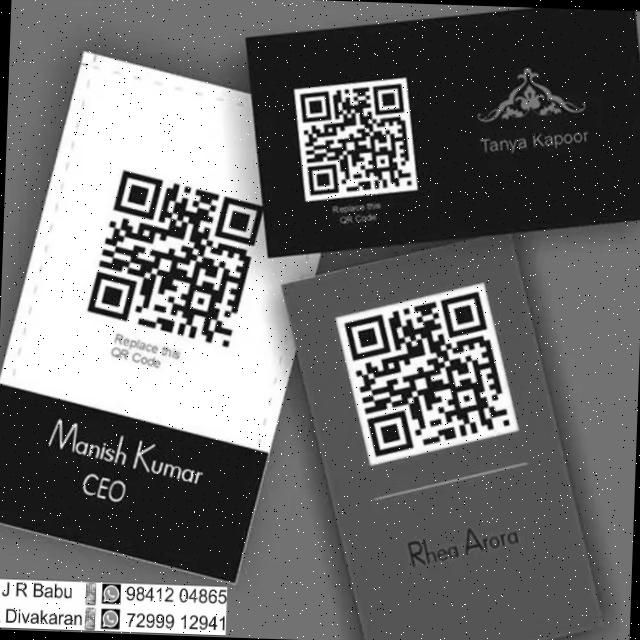QR-codes: (330, 278, 524, 468), (84, 166, 265, 367), (289, 74, 423, 202)
